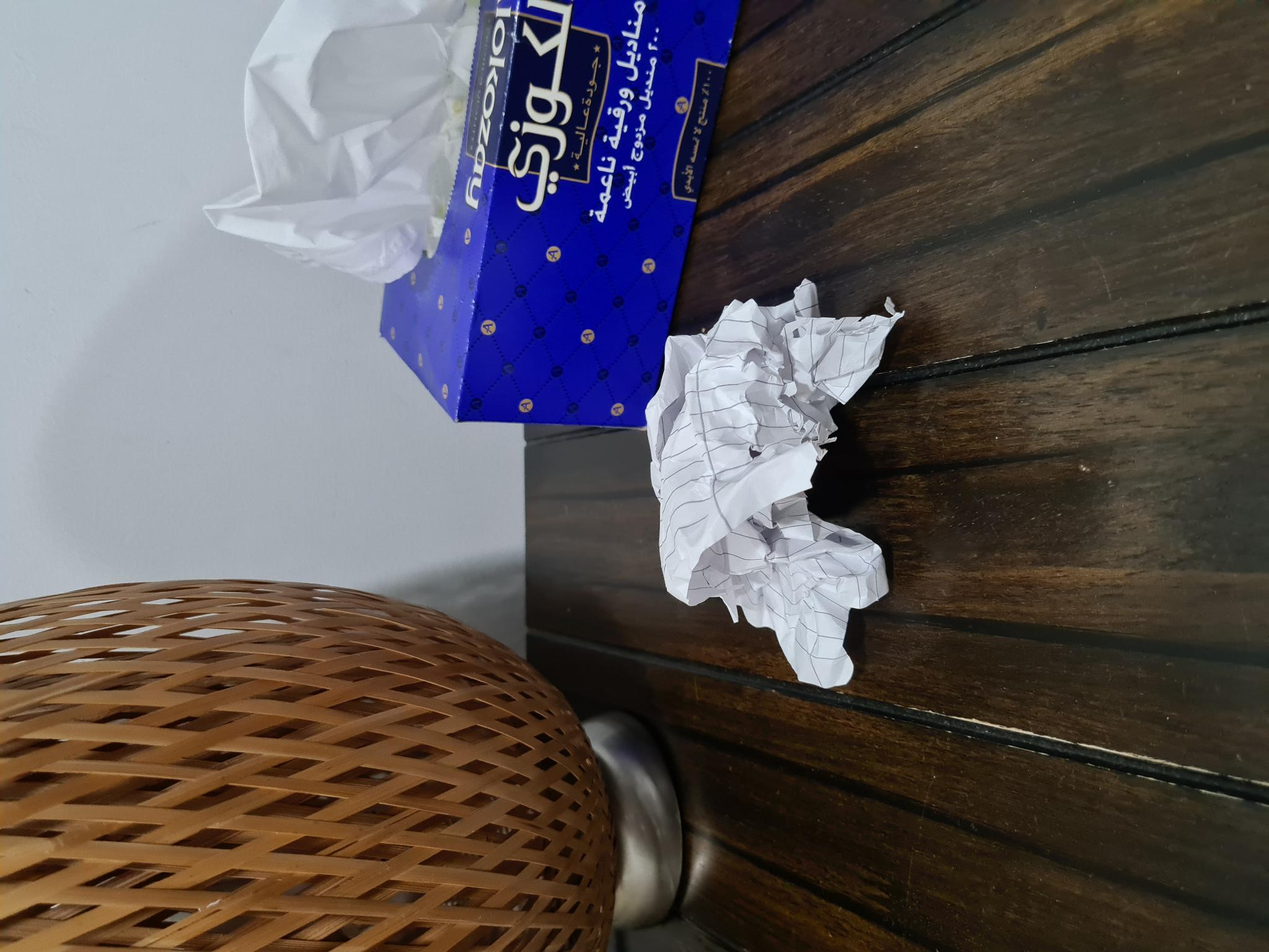Kertas: (254, 641, 651, 913)
